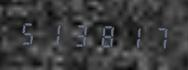eight: (93, 19, 117, 50)
five: (17, 17, 41, 48)
one: (42, 18, 66, 49), (118, 20, 142, 51)
seven: (143, 21, 167, 52)
three: (68, 19, 92, 49)
